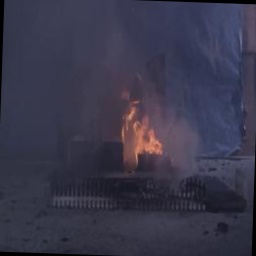fire: (118, 93, 167, 161)
